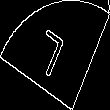L_SW: (35, 25, 75, 85)
